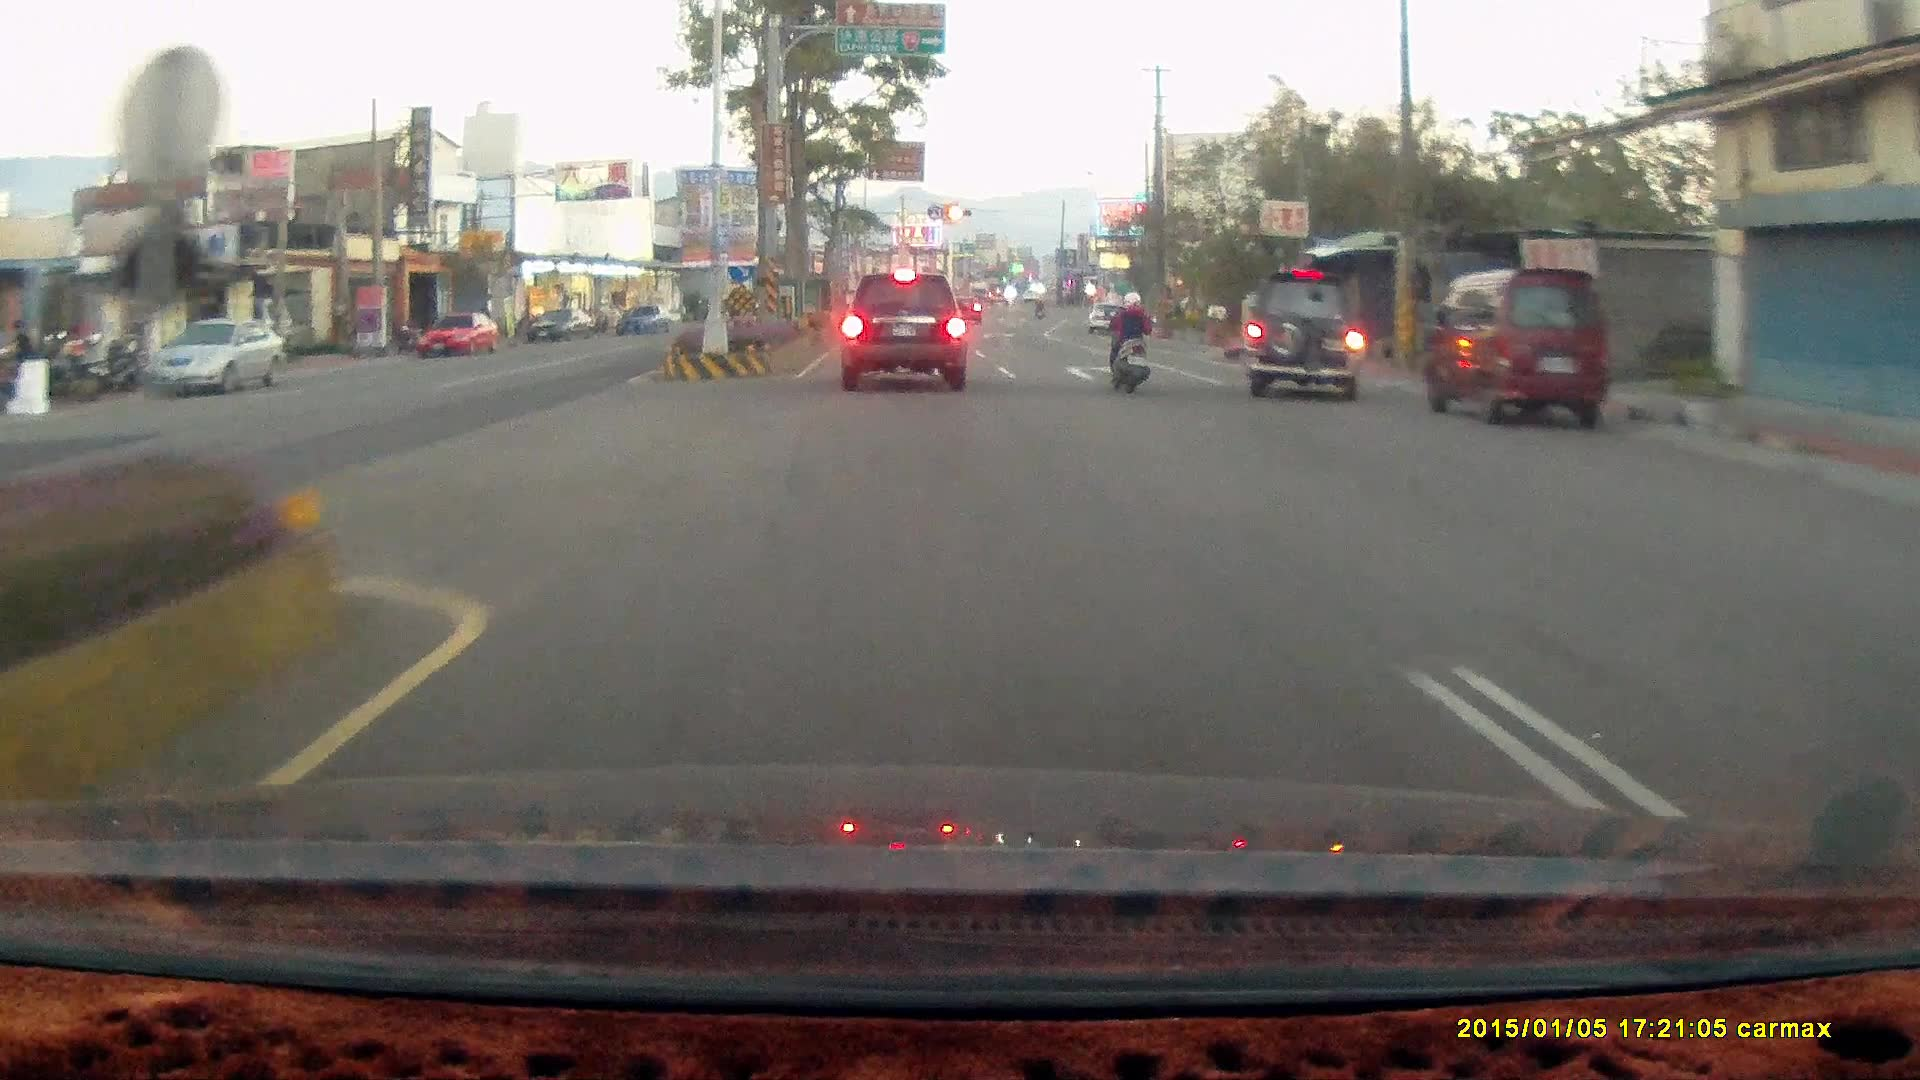pedestrian: (8, 315, 39, 390)
rider: (1106, 286, 1154, 392)
vehicle: (1420, 267, 1611, 430), (1423, 269, 1613, 430), (1237, 272, 1373, 398), (1240, 268, 1365, 400), (837, 270, 967, 389), (143, 317, 286, 399), (147, 317, 286, 397), (1896, 493, 1920, 836), (1883, 528, 1920, 690), (415, 308, 497, 359), (417, 308, 497, 356), (1086, 300, 1130, 332)
